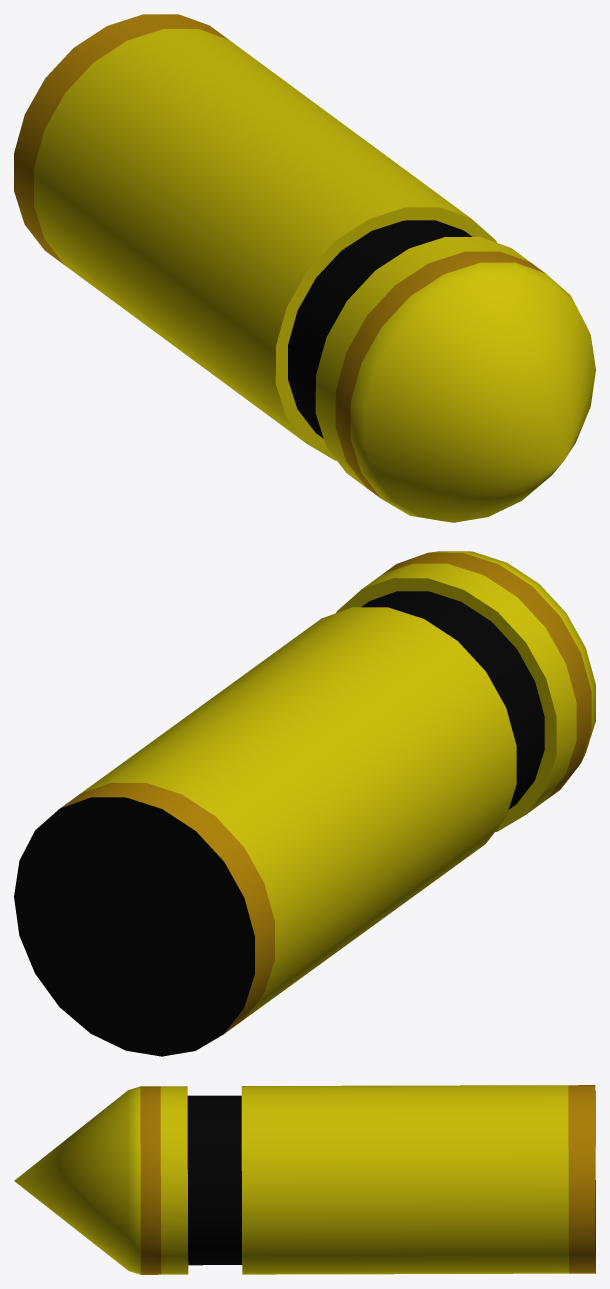
Rendered from Bullet2.fbx.
3 renders of one model, top to bottom at view 1: azimuth 30°, elevation 25°; view 2: azimuth 150°, elevation 25°; view 3: azimuth 270°, elevation 25°, orthographic. The views are drawn at different scales.
Visible parts, largest first — view 1: pCylinder1; view 2: pCylinder1; view 3: pCylinder1.
Part boxes in pixels (left/top/right/bottom): pCylinder1: left=14, top=14, right=595, bottom=522; pCylinder1: left=14, top=551, right=595, bottom=1056; pCylinder1: left=14, top=1085, right=595, bottom=1274.
Size of the model in its own units: 1.99 by 2.01 by 6.16.
